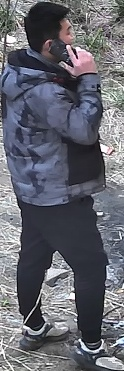phone: (14, 4, 115, 134)
